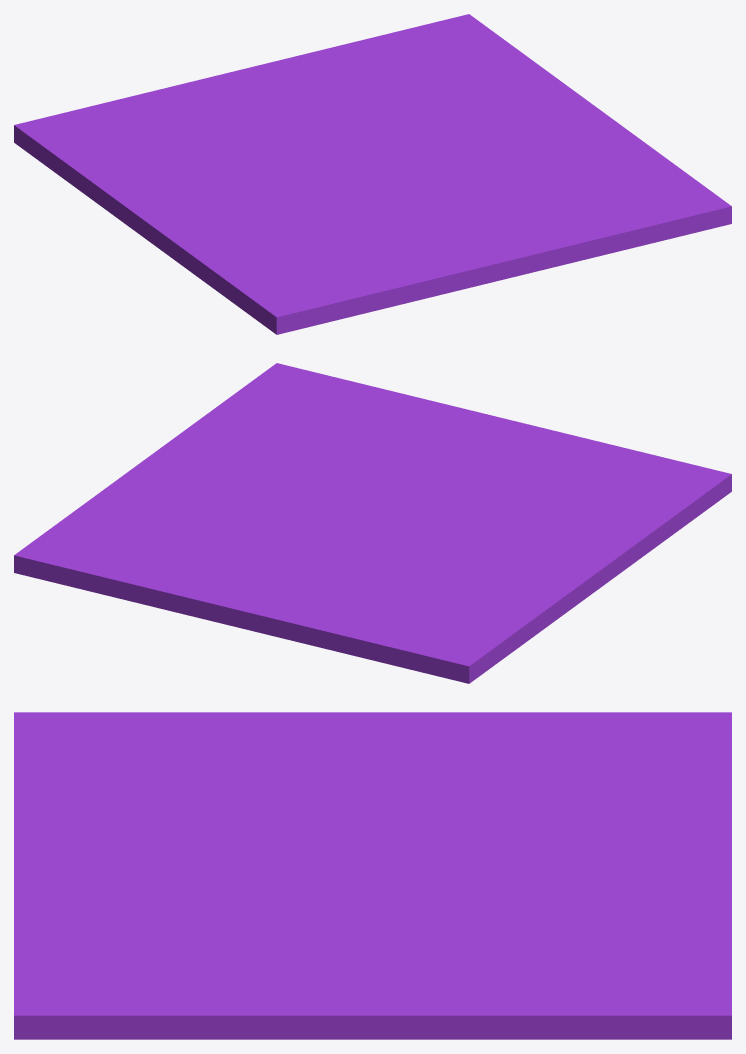
File: Platform_26_chunks.fbx
The picture shows the model from 3 angles, top to bottom: view 1: azimuth 30°, elevation 25°; view 2: azimuth 150°, elevation 25°; view 3: azimuth 270°, elevation 25°; orthographic projection. The views are drawn at different scales.
Visible parts, largest first — view 1: Platform_26_7, Platform_26_2, Platform_26_0, Platform_26_12, Platform_26_13, Platform_26_9, Platform_26_3, Platform_26_11, Platform_26_19, Platform_26_20, Platform_26_21, Platform_26_10; view 2: Platform_26_7, Platform_26_0, Platform_26_2, Platform_26_12, Platform_26_13, Platform_26_9, Platform_26_3, Platform_26_11, Platform_26_21, Platform_26_10, Platform_26_20, Platform_26_19 (+1 smaller); view 3: Platform_26_7, Platform_26_12, Platform_26_2, Platform_26_0, Platform_26_13, Platform_26_9, Platform_26_3, Platform_26_11, Platform_26_21, Platform_26_10, Platform_26_20, Platform_26_19 (+4 smaller).
Part boxes in pixels (<box>): Platform_26_7: <box>186,168,469,334</box>; Platform_26_2: <box>88,142,367,268</box>; Platform_26_0: <box>14,67,252,196</box>; Platform_26_12: <box>450,85,702,185</box>; Platform_26_13: <box>316,14,565,102</box>; Platform_26_9: <box>414,170,731,235</box>; Platform_26_3: <box>239,53,367,167</box>; Platform_26_11: <box>330,95,459,171</box>; Platform_26_19: <box>468,216,689,288</box>; Platform_26_20: <box>334,236,479,315</box>; Platform_26_21: <box>439,216,685,249</box>; Platform_26_10: <box>308,51,467,110</box>; Platform_26_7: <box>362,453,731,556</box>; Platform_26_0: <box>222,575,543,683</box>; Platform_26_2: <box>380,515,641,629</box>; Platform_26_12: <box>112,384,346,511</box>; Platform_26_13: <box>14,484,196,604</box>; Platform_26_9: <box>248,363,427,497</box>; Platform_26_3: <box>168,515,392,619</box>; Platform_26_11: <box>217,483,379,565</box>; Platform_26_21: <box>321,374,490,454</box>; Platform_26_10: <box>168,510,249,597</box>; Platform_26_20: <box>484,426,670,459</box>; Platform_26_19: <box>319,373,533,433</box>; Platform_26_7: <box>14,712,369,881</box>; Platform_26_12: <box>93,898,483,1028</box>; Platform_26_2: <box>260,712,529,859</box>; Platform_26_0: <box>529,712,731,871</box>; Platform_26_13: <box>462,913,731,1030</box>; Platform_26_9: <box>14,878,331,1039</box>; Platform_26_3: <box>370,812,731,908</box>; Platform_26_11: <box>303,860,598,944</box>; Platform_26_21: <box>16,849,164,985</box>; Platform_26_10: <box>468,890,731,954</box>; Platform_26_20: <box>14,752,129,860</box>; Platform_26_19: <box>14,844,64,987</box>.
Bounding box in the file's own units: 810 × 29.87 × 810.
